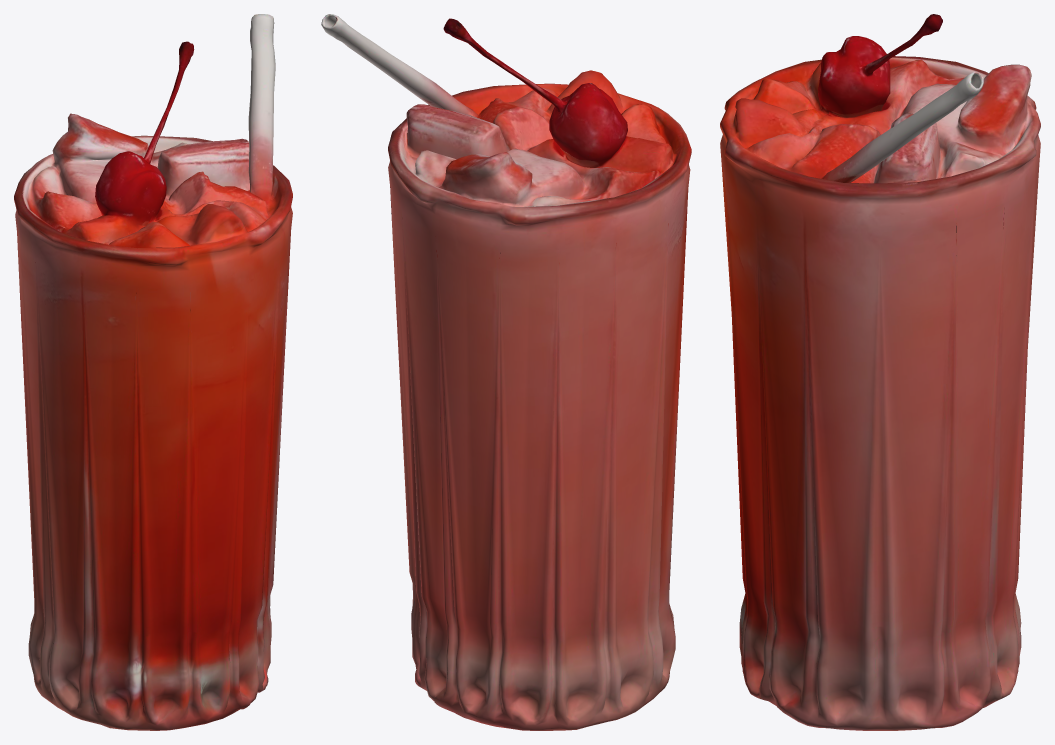
File: red cocktail 3d model.glb
The picture shows the model from 3 angles, left to right: view 1: azimuth 30°, elevation 25°; view 2: azimuth 150°, elevation 25°; view 3: azimuth 270°, elevation 25°; orthographic projection. The views are drawn at different scales.
Parts seen in each view (by area): view 1: tripo_node_488603bf-fb24-4f39-88c6-2a281ac6b69a; view 2: tripo_node_488603bf-fb24-4f39-88c6-2a281ac6b69a; view 3: tripo_node_488603bf-fb24-4f39-88c6-2a281ac6b69a.
Part boxes in pixels (x1,y1,x2,y2): tripo_node_488603bf-fb24-4f39-88c6-2a281ac6b69a: [14, 14, 292, 730]; tripo_node_488603bf-fb24-4f39-88c6-2a281ac6b69a: [321, 14, 691, 730]; tripo_node_488603bf-fb24-4f39-88c6-2a281ac6b69a: [720, 14, 1040, 730].
Size of the model in its own units: 0.4734 by 0.9793 by 0.4082.
Materials: 1 (1 with a texture image).
